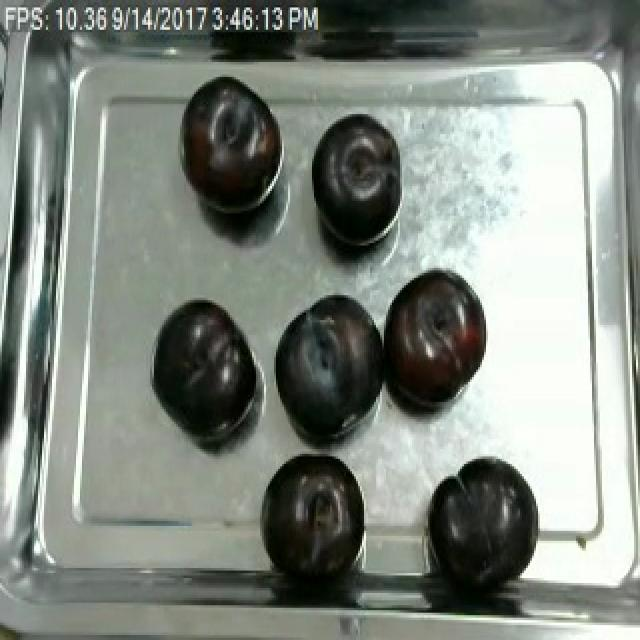Fruit: (268, 288, 390, 444), (170, 72, 286, 223), (146, 293, 262, 442), (378, 266, 490, 414), (426, 452, 546, 590), (306, 109, 406, 258), (258, 446, 366, 580)
